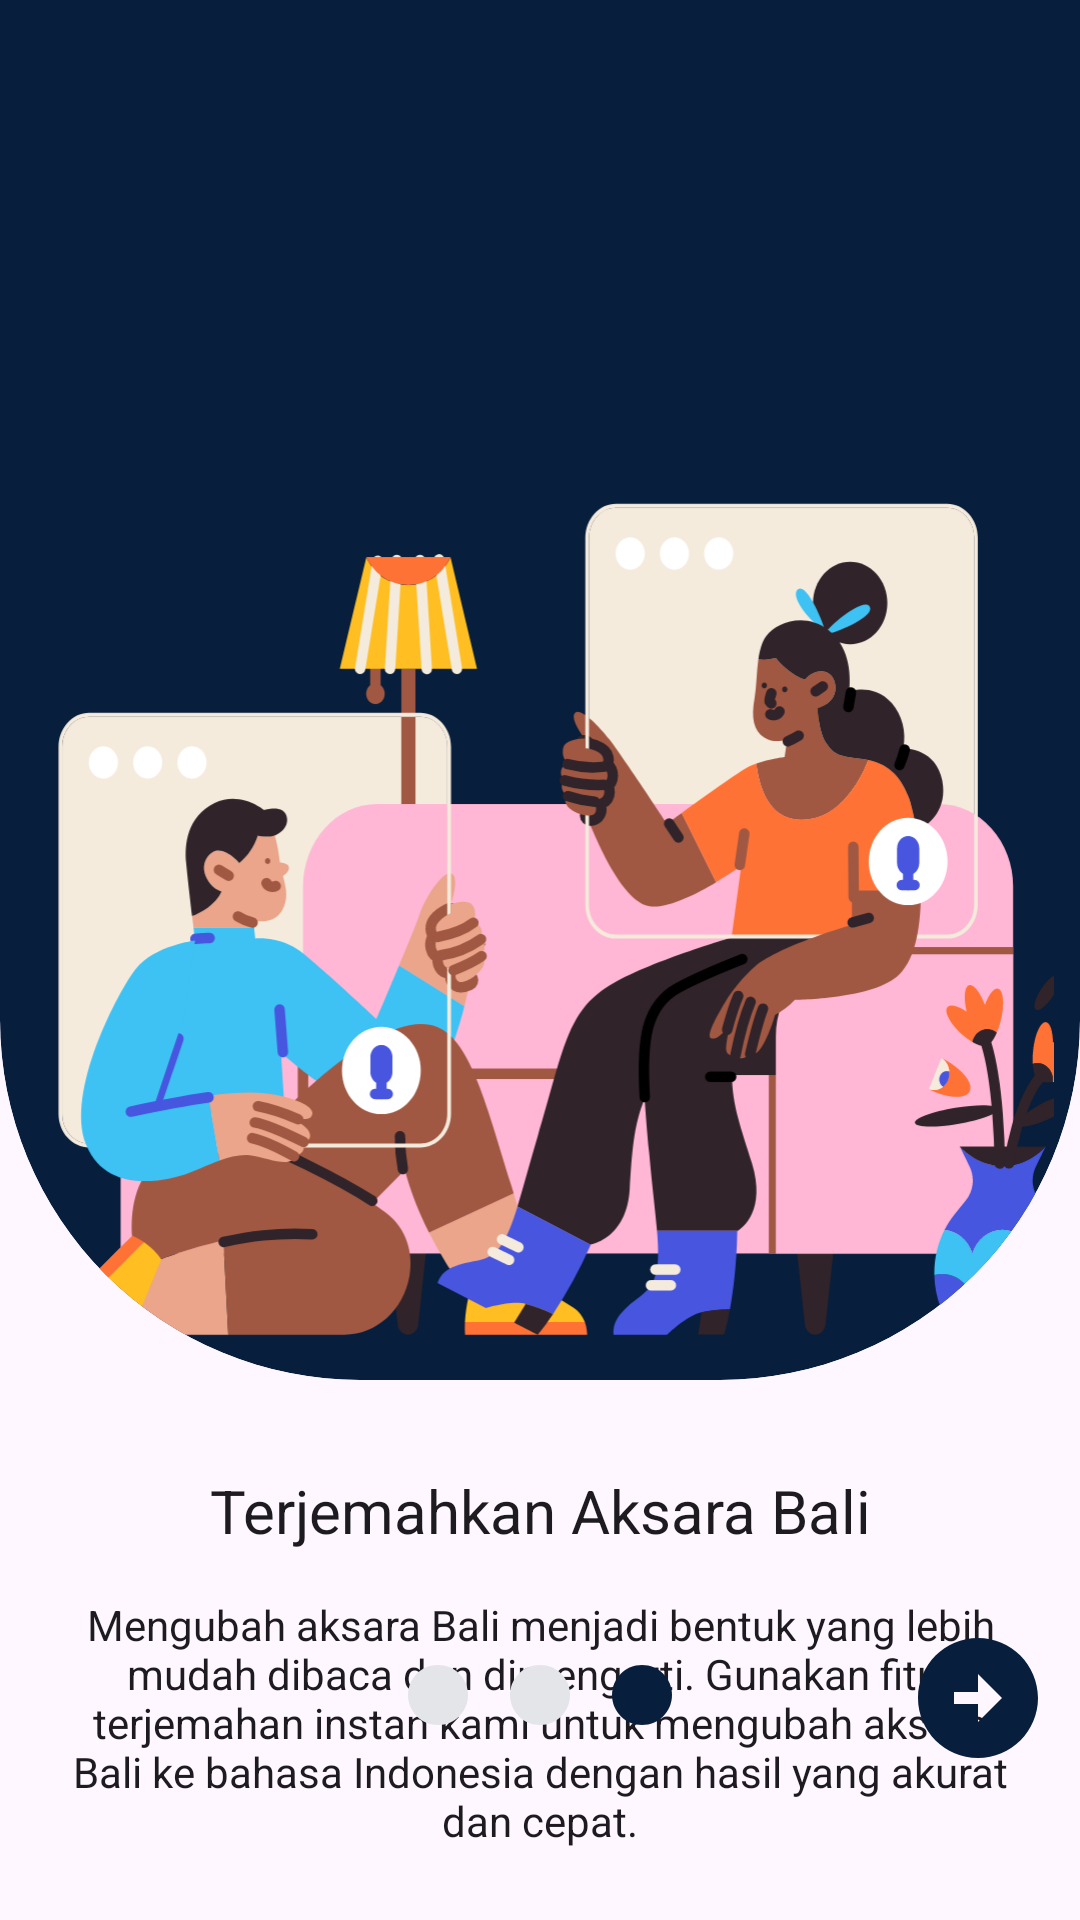

Named icons in this screenshot (1080×1920) and their bounding boxes, rect(x1, y1, x2, y2):
Next: rect(906, 1626, 1038, 1770)
